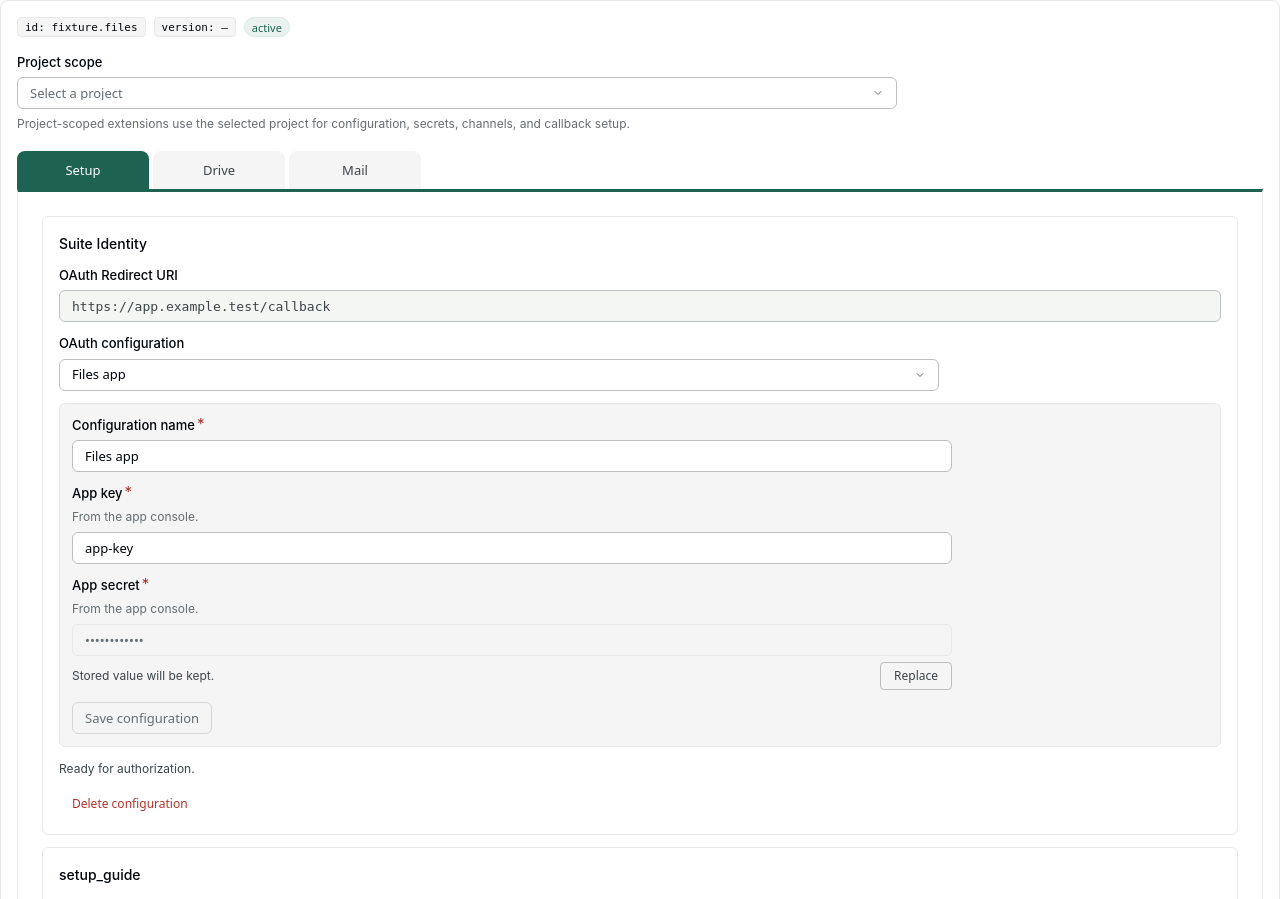
Test case: ExtensionDetailPanel marketplace links › an OAuth provider's setup page › keeps a setup page without a connection form apart from its service pages
Expected: the field labelled "App key" is shown, [72,532,952,564]
Expected: the form "Connect an account" is not shown
Click the tab "Drive". click: (219, 170)
box: [153,151,285,189]
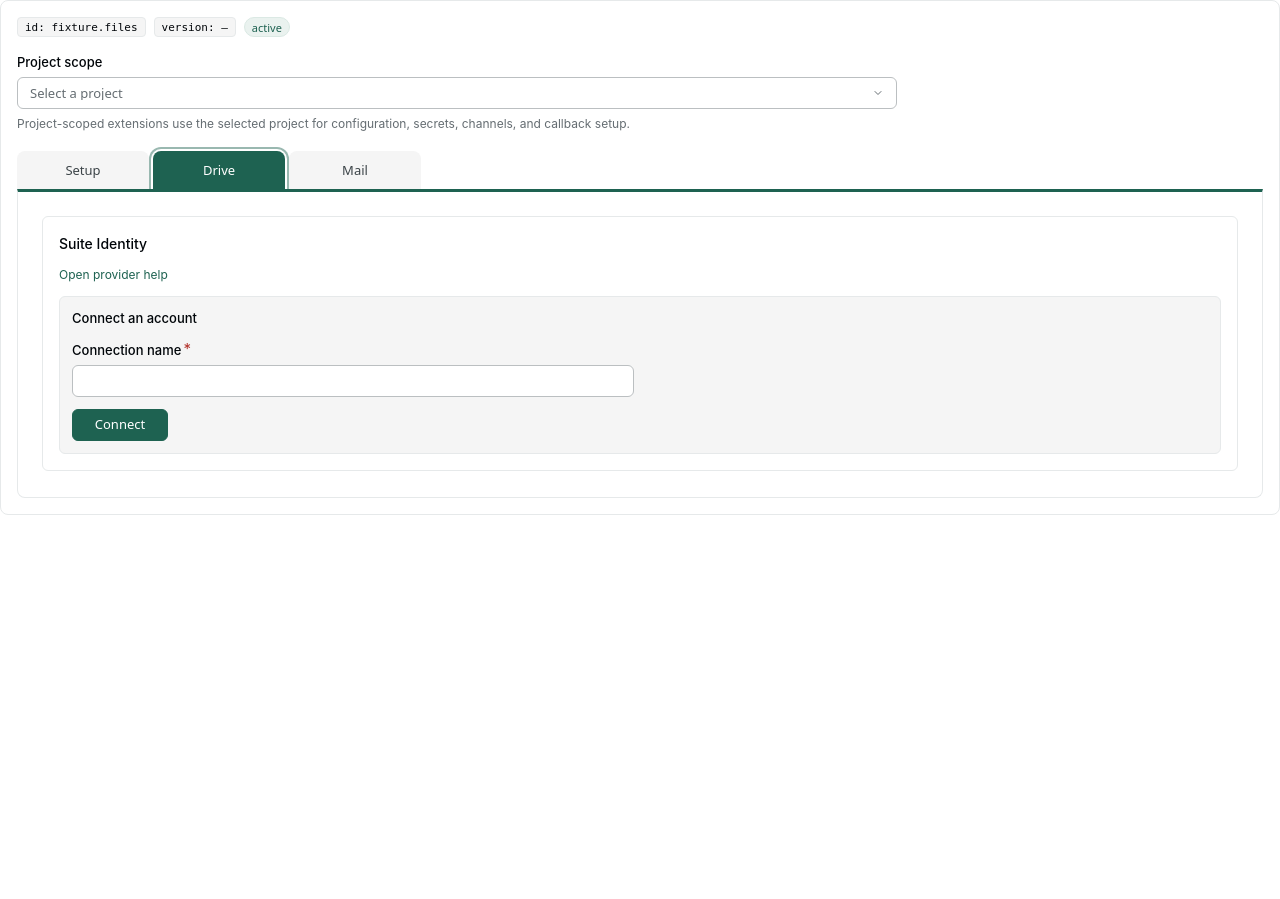
Expected: the form "Connect an account" is shown, [59,296,1221,454]
Expected: the label labelled "App key" is gone
Expected: the label "OAuth configuration" is gone
